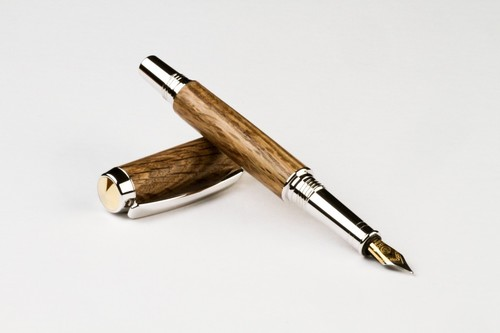Nonrec_Other: (83, 39, 426, 270)
